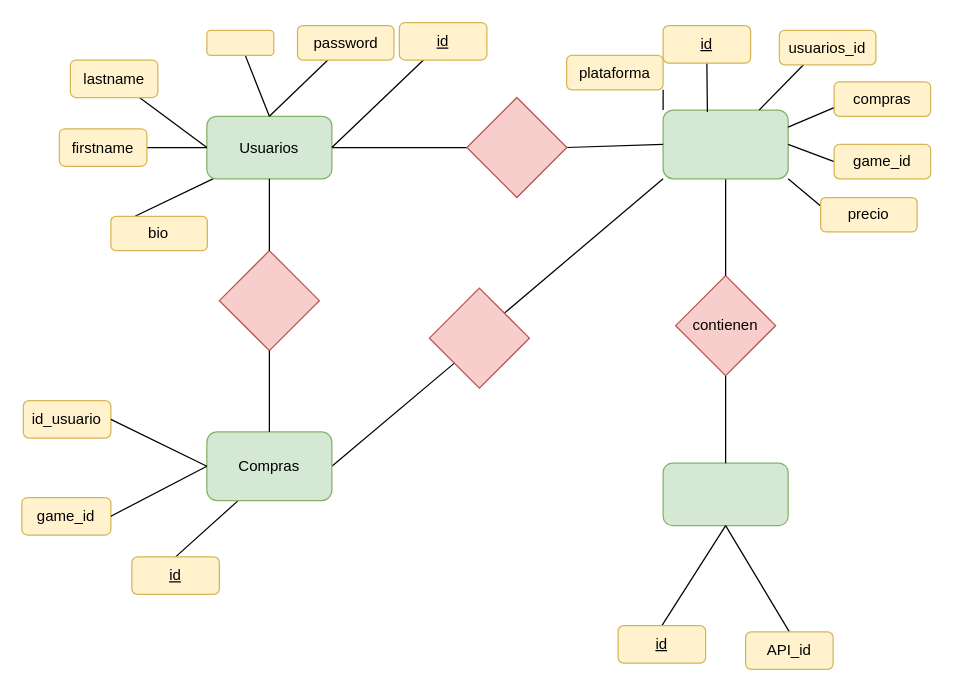
This 953x691 diagram has some shape labels left out. Each missing label, with the centre of its shape:
Crea: the point at 516,147
dentro: the point at 478,337
email: the point at 240,42
Games: the point at 725,494
hacen: the point at 268,300
Oferta: the point at 725,144
